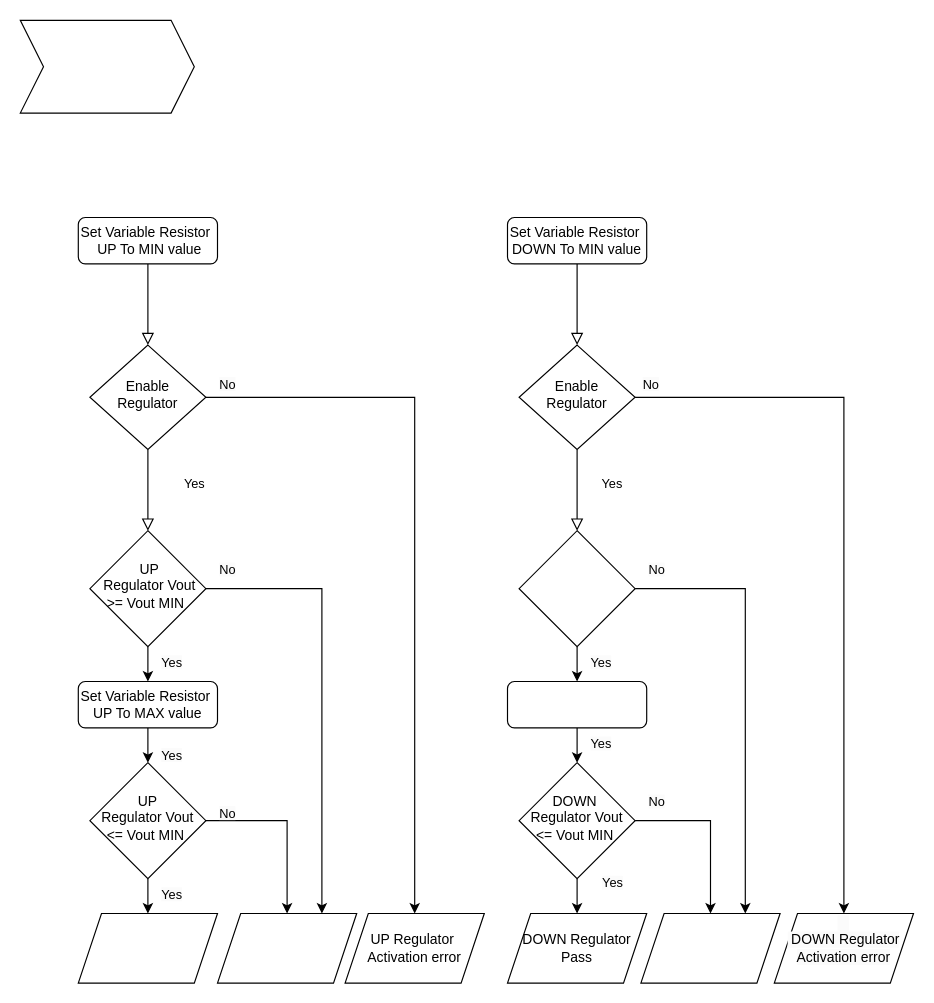
Some shapes in this 934 by 1003 pixel diagram are drawn without their labels. Here are the shapes that lost their labels. From the top down, the box of each, then its label:
(19, 19, 194, 113): Voltage Regulator Init
(518, 530, 635, 647): DOWN Regulator Vout >= Vout MIN
(506, 680, 647, 728): Set Variable Resistor DOWN To MAX
(77, 912, 217, 983): UP Regulator Pass
(216, 912, 357, 983): UP Regulator Error
(640, 912, 780, 983): DOWN Regulator Error
